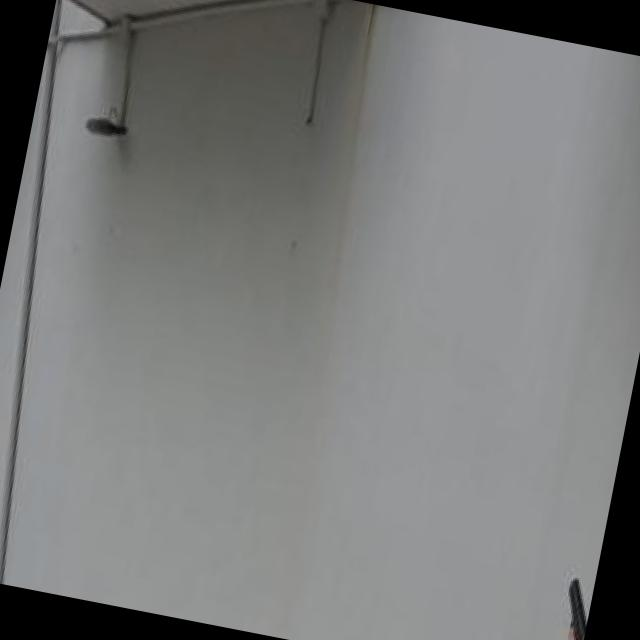Guns: (550, 566, 597, 640)
